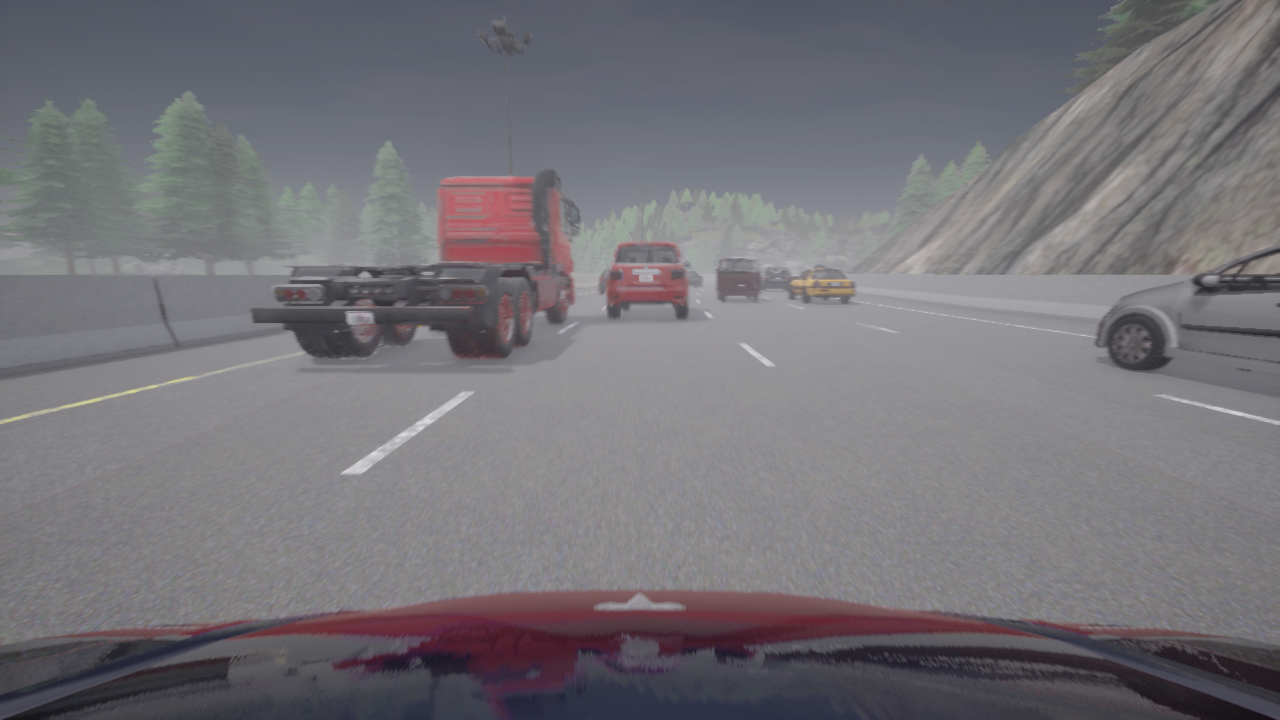cyclist: (0, 588, 1279, 719), (250, 169, 579, 358), (1095, 244, 1279, 374), (607, 241, 689, 318), (789, 265, 854, 302), (715, 256, 761, 301), (761, 267, 792, 290), (599, 268, 609, 293), (686, 272, 701, 286)
